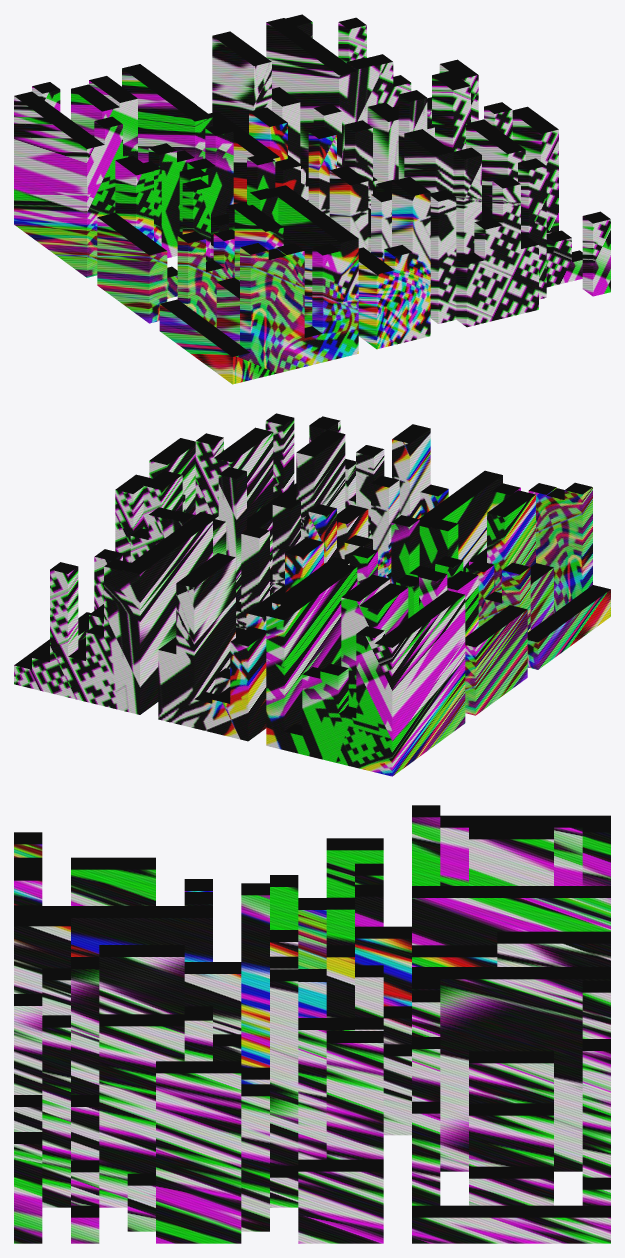
The picture shows the model from 3 angles, top to bottom: view 1: azimuth 30°, elevation 25°; view 2: azimuth 150°, elevation 25°; view 3: azimuth 270°, elevation 25°; orthographic projection. The views are drawn at different scales.
Visible parts, largest first — view 1: uvquickshade1; view 2: uvquickshade1; view 3: uvquickshade1.
Part boxes in pixels (bbox=[...]): uvquickshade1: bbox=[14, 14, 610, 384]; uvquickshade1: bbox=[14, 413, 610, 776]; uvquickshade1: bbox=[14, 805, 610, 1243].
Bounding box in the file's own units: 1 × 0.3743 × 1.
1 material, 1 textured.
